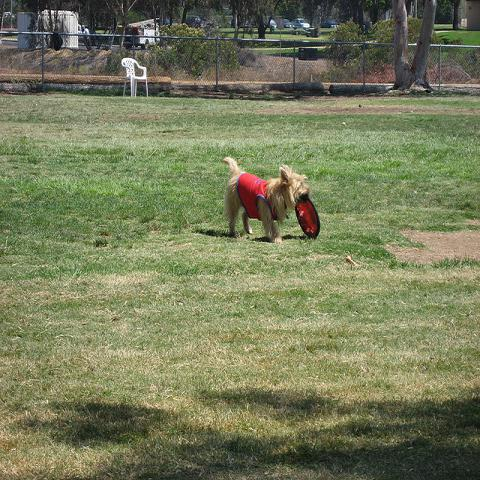car: (78, 24, 91, 46), (292, 19, 311, 29), (321, 19, 339, 28), (264, 18, 277, 28), (186, 15, 202, 23), (284, 19, 292, 28), (4, 13, 15, 18), (232, 18, 234, 28)
truck: (124, 19, 155, 51)
